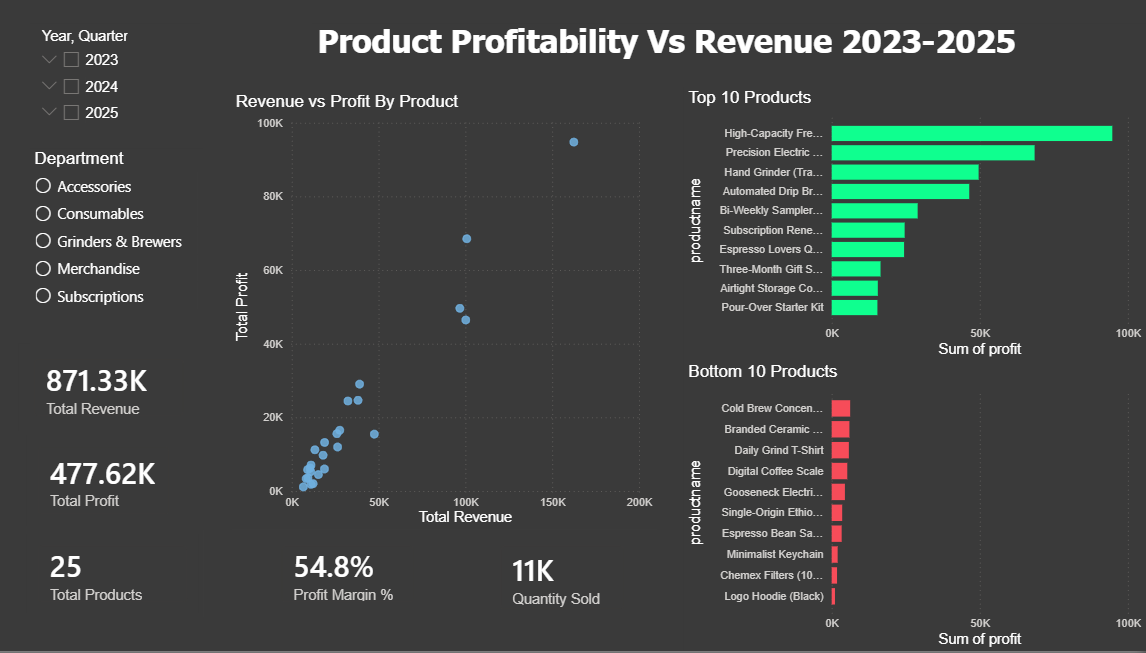

The page's visual inventory and layout, read from the dashboard file:
{"tool":"powerbi","page":{"name":"Page 1","canvas":[1280,720],"ordinal":0},"visuals":[{"type":"slicer","fields":{"Values":["OFFCIALCOGS.converted_date.Variation.Date Hierarchy.Year","OFFCIALCOGS.converted_date.Variation.Date Hierarchy.Quarter"]},"box":[54.9,31.6,186.6,118],"z":1000},{"type":"cardVisual","fields":{"Data":["Sum(OFFCIALCOGS.REVENUE)"]},"box":[42.5,382.8,199,96.1],"z":2000},{"type":"cardVisual","fields":{"Data":["Sum(OFFCIALCOGS.QUANTITY)"]},"box":[554.4,587.3,170.2,104.3],"z":3000},{"type":"cardVisual","fields":{"Data":["Sum(OFFCIALCOGS.profit)"]},"box":[46.7,478.9,178.4,108.4],"z":4000},{"type":"scatterChart","title":"Revenue vs Profit By Product","fields":{"X":["Sum(OFFCIALCOGS.REVENUE)"],"Y":["Sum(OFFCIALCOGS.profit)"],"Category":["OFFCIALCOGS.productname"]},"box":[275.8,105.7,467.9,481.6],"z":7000},{"type":"cardVisual","fields":{"Data":["OFFCIALCOGS.Margin %"]},"box":[314.2,587.3,179.8,96.1],"z":8000},{"type":"clusteredBarChart","title":"Top 10 Products ","fields":{"Category":["OFFCIALCOGS.productname"],"Y":["Sum(OFFCIALCOGS.profit)"]},"box":[772.6,101.5,507.7,300.5],"z":8002},{"type":"clusteredBarChart","title":"Bottom 10 Products","fields":{"Category":["OFFCIALCOGS.productname"],"Y":["Sum(OFFCIALCOGS.profit)"]},"box":[772.6,402.1,507.7,318.4],"z":8003},{"type":"textbox","title":"Product Profitability Vs Revenue 2023-2025","box":[365,31.6,915.3,50.8],"z":8004},{"type":"cardVisual","fields":{"Data":["Count(OFFCIALCOGS.productname)"]},"box":[46.7,587.3,199,96.1],"z":8005},{"type":"listSlicer","fields":{"Values":["OFFCIALCOGS.productcategory"]},"box":[54.9,168.8,189.4,214.1],"z":8006}]}

Visuals, with their boxes in screenshot pixels (x1, y1, x2, y2), scaled from the page's 1280x720 canvas onto the 1146x653 screenshot:
slicer - OFFCIALCOGS.converted_date.Variation.Date Hierarchy.Year x OFFCIALCOGS.converted_date.Variation.Date Hierarchy.Quarter: left=49, top=29, right=216, bottom=136
cardVisual - Sum(OFFCIALCOGS.REVENUE): left=38, top=347, right=216, bottom=434
cardVisual - Sum(OFFCIALCOGS.QUANTITY): left=496, top=533, right=649, bottom=627
cardVisual - Sum(OFFCIALCOGS.profit): left=42, top=434, right=202, bottom=533
"Revenue vs Profit By Product" scatterChart: left=247, top=96, right=666, bottom=533
cardVisual - OFFCIALCOGS.Margin %: left=281, top=533, right=442, bottom=620
"Top 10 Products " clusteredBarChart: left=692, top=92, right=1145, bottom=365
"Bottom 10 Products" clusteredBarChart: left=692, top=365, right=1145, bottom=652
"Product Profitability Vs Revenue 2023-2025" textbox: left=327, top=29, right=1145, bottom=75
cardVisual - Count(OFFCIALCOGS.productname): left=42, top=533, right=220, bottom=620
listSlicer - OFFCIALCOGS.productcategory: left=49, top=153, right=219, bottom=347
